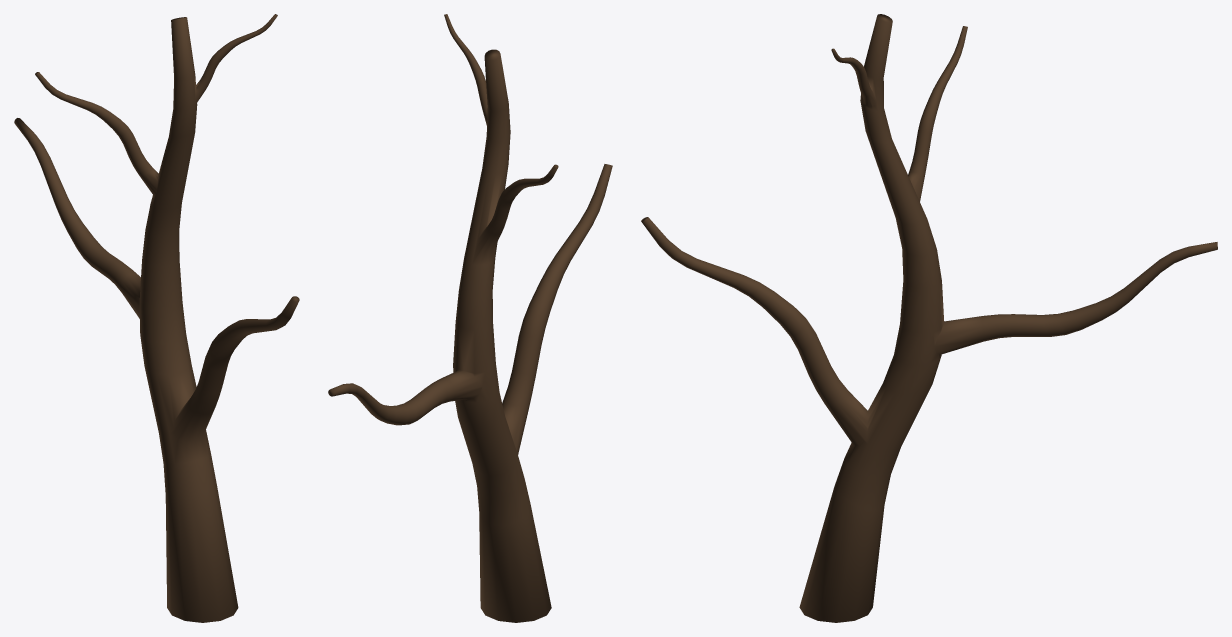
Rendered from Bark Tree.fbx.
3 views of the same model, side by side, from view 1: azimuth 30°, elevation 25°; view 2: azimuth 150°, elevation 25°; view 3: azimuth 270°, elevation 25° (orthographic). The views are drawn at different scales.
Visible parts, largest first — view 1: BarkTree; view 2: BarkTree; view 3: BarkTree.
Boxes of the visible parts, box(x1,y1,x2,y2) form: BarkTree: box(14, 14, 299, 622); BarkTree: box(328, 14, 612, 622); BarkTree: box(641, 14, 1217, 622).
Size of the model in its own units: 2.94 by 9.08 by 7.98.
